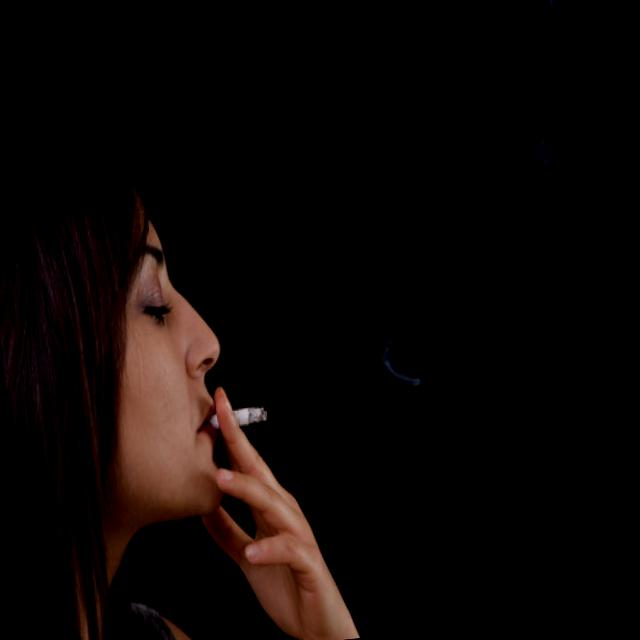cigarette: (233, 407, 269, 429)
